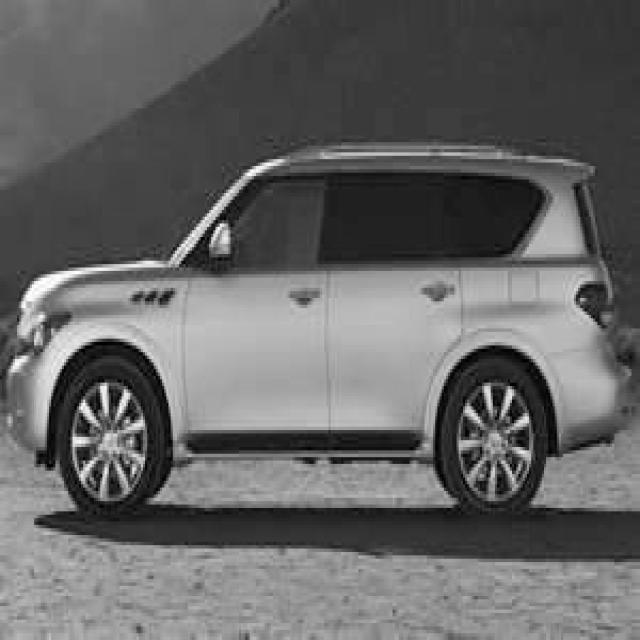car: (4, 139, 632, 518)
